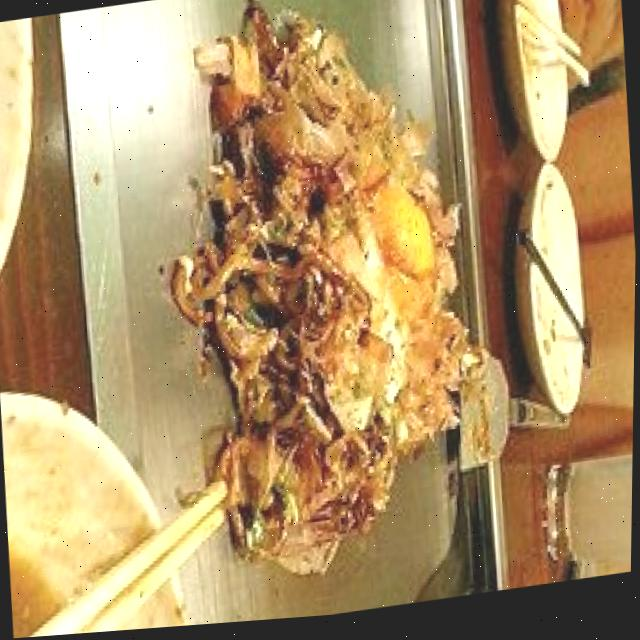蛋糕甜品: (148, 17, 477, 581)
